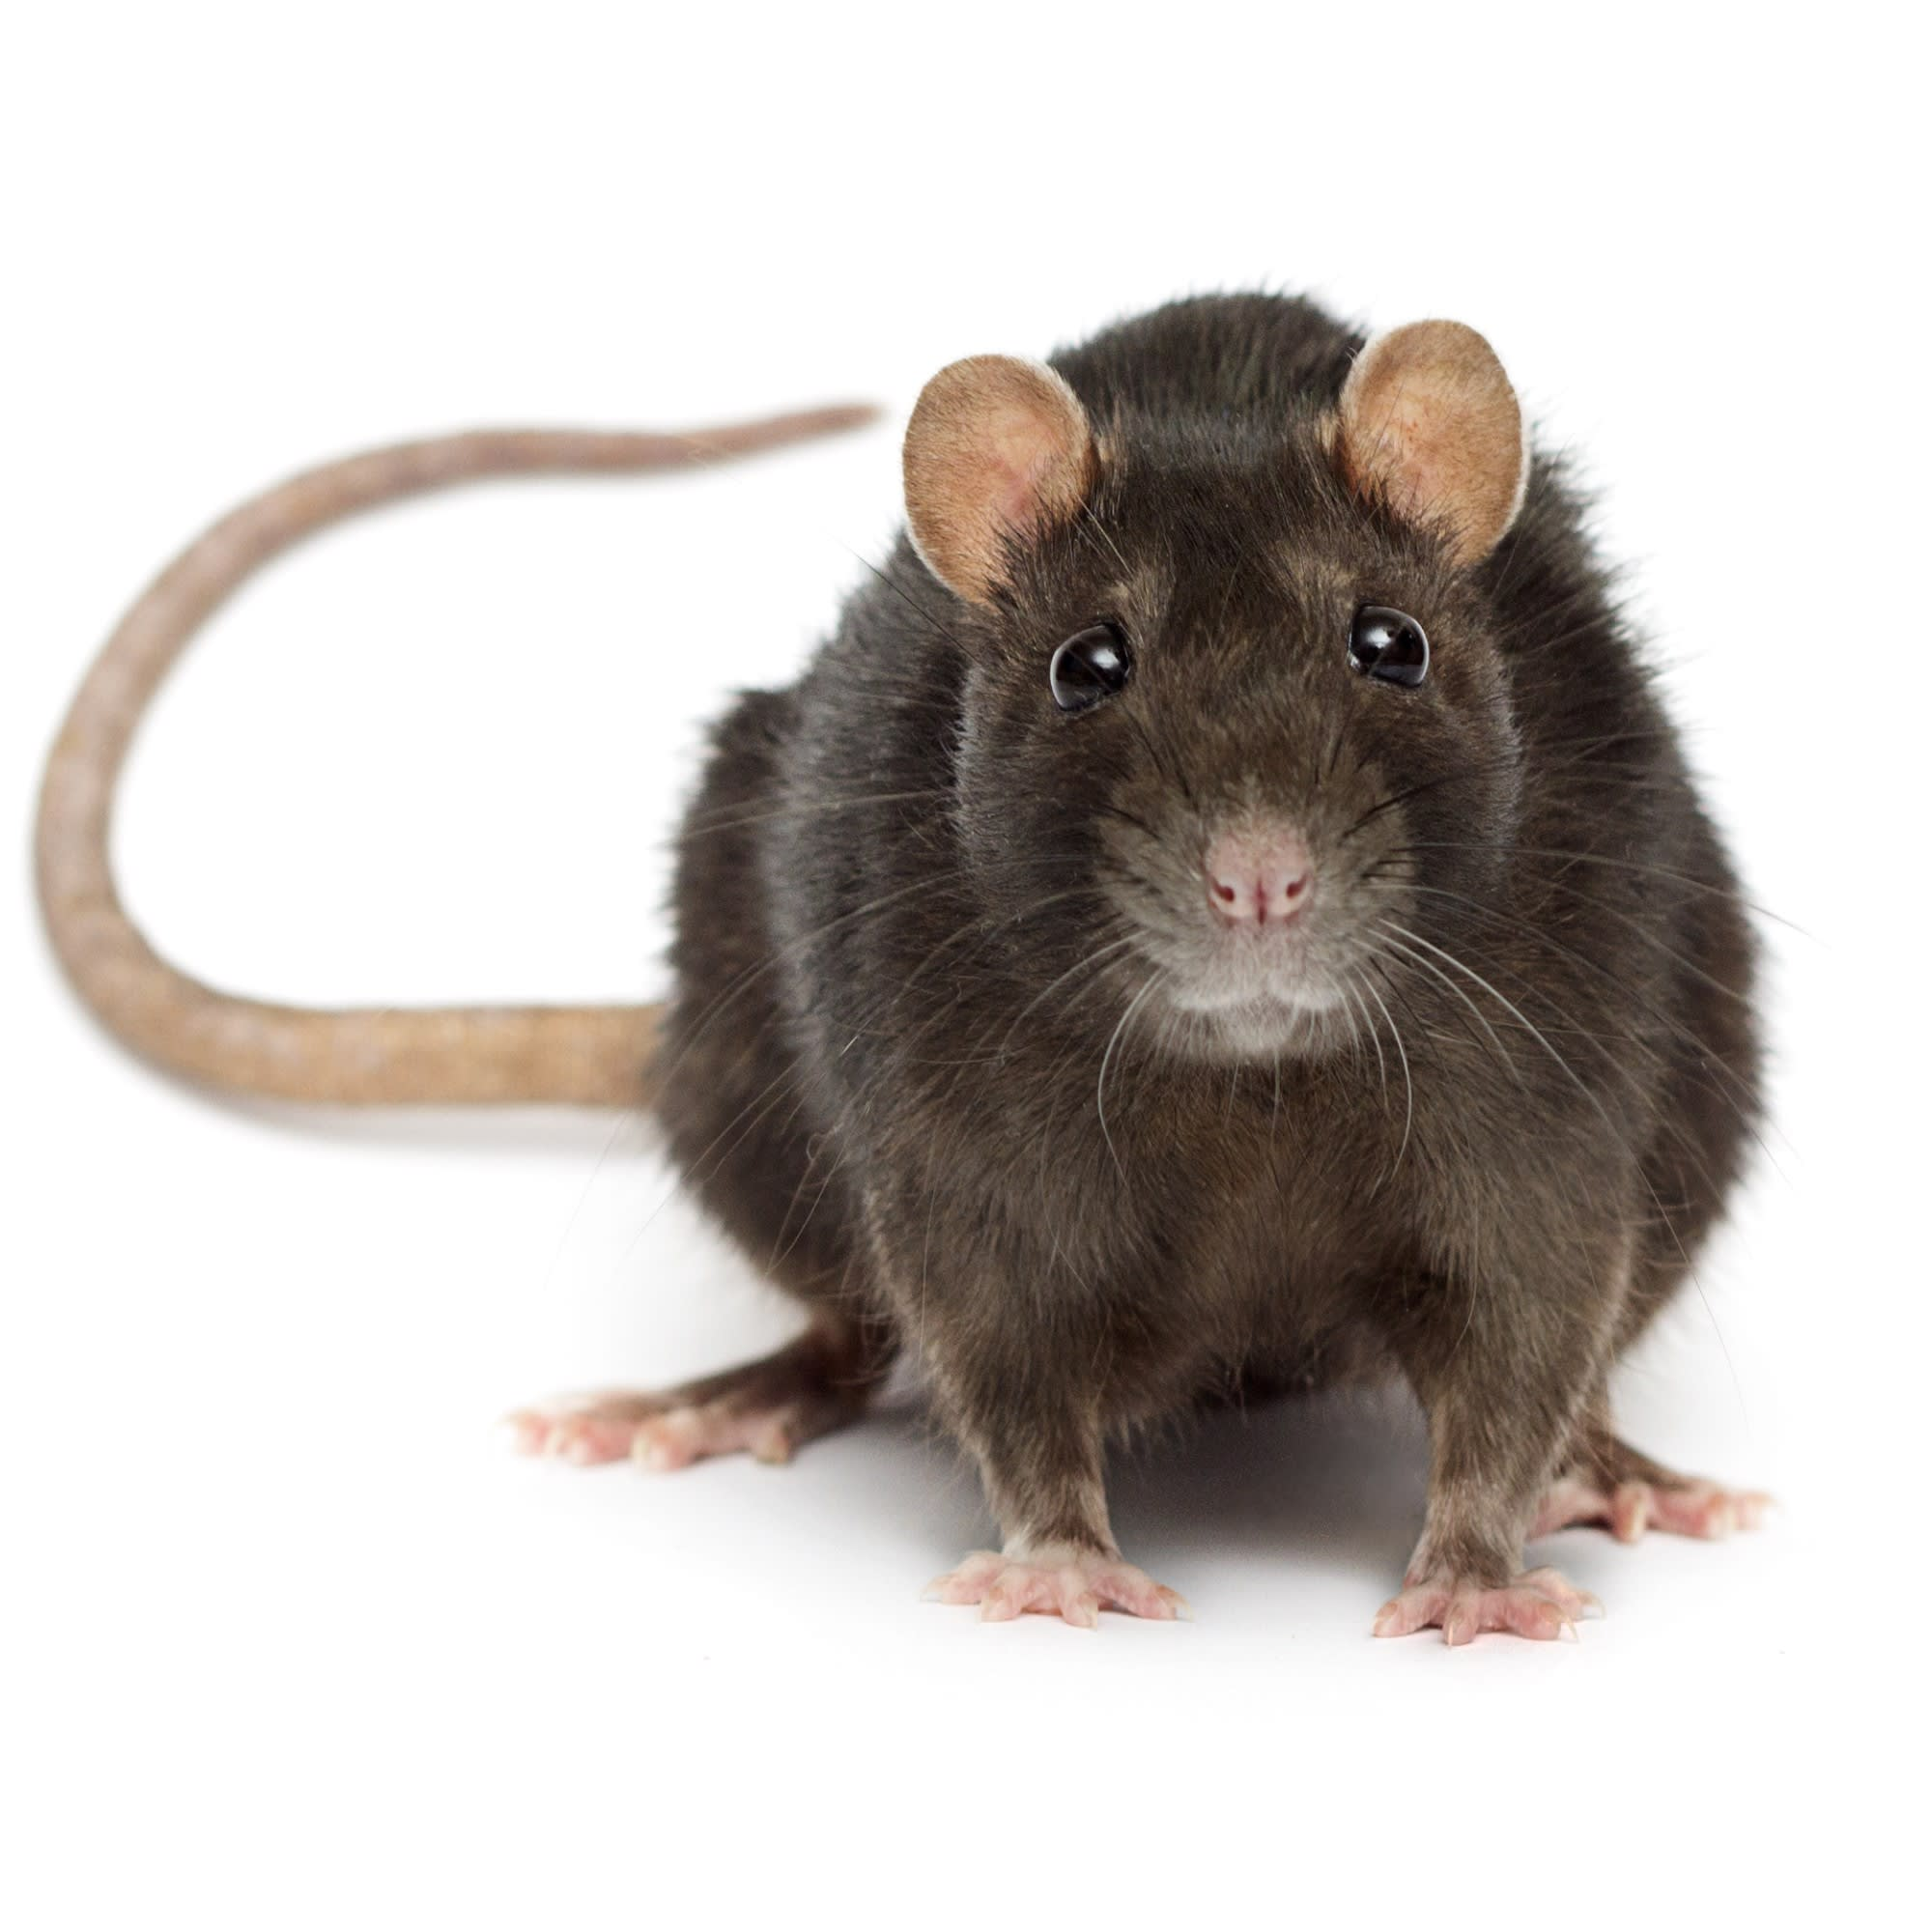Rat: (527, 202, 1870, 1697)
